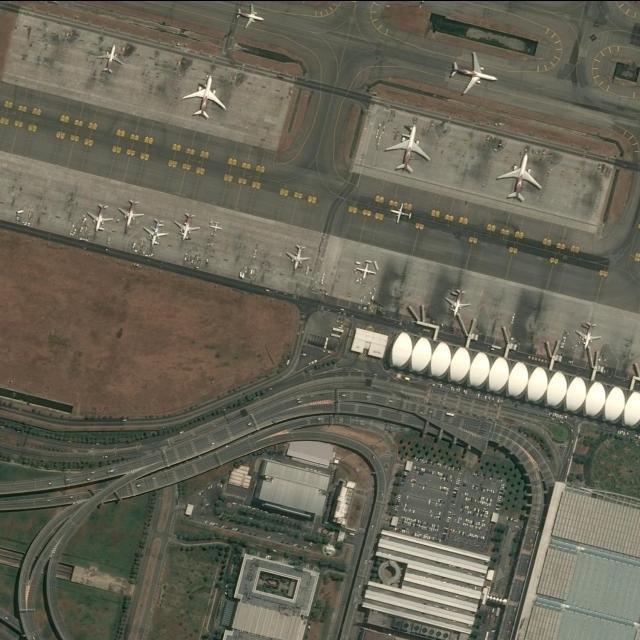Aircraft: (387, 122, 433, 175), (497, 152, 542, 206), (447, 50, 498, 96), (180, 73, 228, 119), (94, 43, 126, 74), (444, 287, 472, 319), (86, 199, 110, 236), (143, 217, 168, 249), (573, 322, 601, 350), (118, 198, 142, 230), (233, 3, 263, 28), (285, 243, 311, 271), (175, 212, 199, 242), (391, 202, 413, 224), (356, 258, 376, 282), (209, 220, 221, 233)
